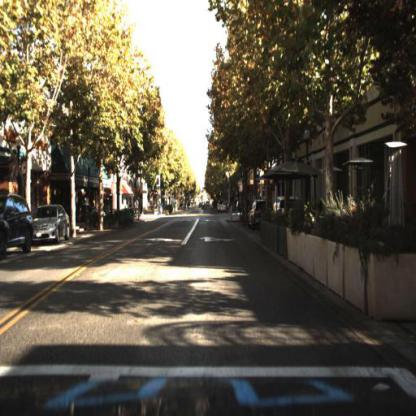car: (1, 194, 35, 258), (35, 200, 71, 246), (270, 190, 304, 228), (248, 200, 269, 233)
trafficLight-Red: (224, 160, 233, 183)
